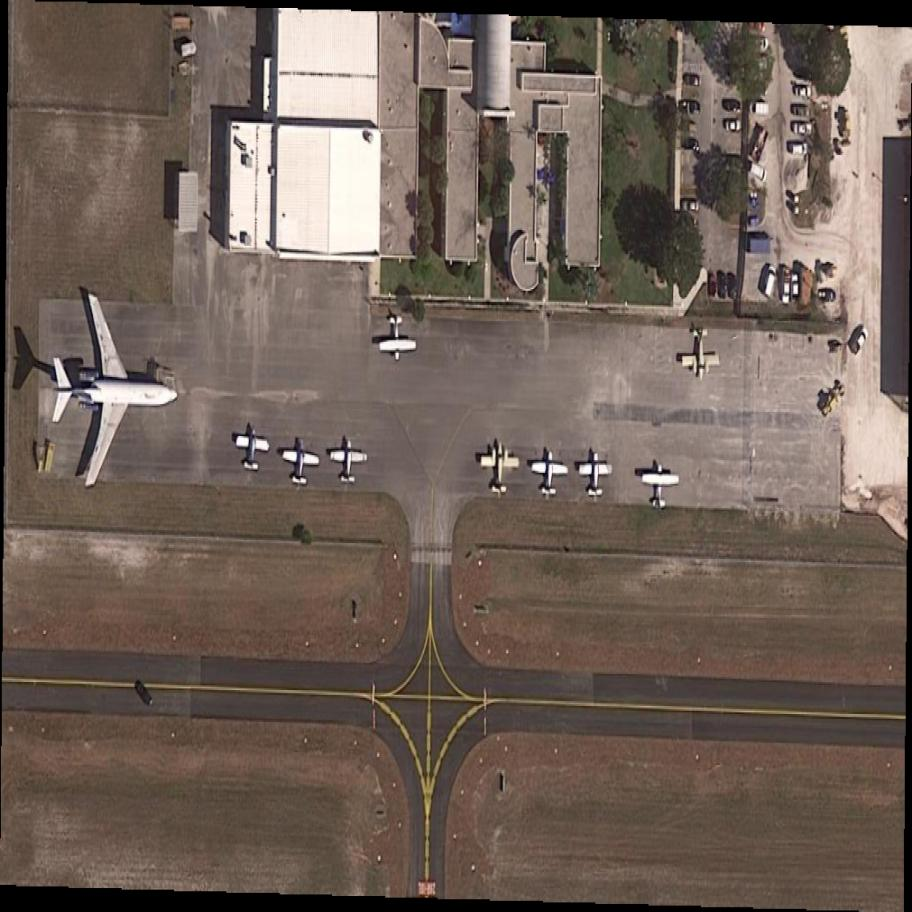plane: (51, 295, 186, 484), (478, 439, 521, 497), (280, 433, 323, 489), (681, 327, 719, 382), (329, 436, 370, 486), (378, 314, 416, 366), (529, 449, 570, 497), (640, 463, 680, 511), (233, 426, 271, 474), (577, 450, 613, 500)
small-vehicle: (846, 325, 872, 361), (133, 680, 157, 712), (761, 265, 779, 302), (746, 163, 773, 185), (676, 99, 702, 118), (679, 196, 703, 216), (678, 137, 704, 155), (720, 97, 742, 117), (749, 37, 772, 56), (790, 102, 812, 120), (782, 270, 792, 307), (792, 121, 814, 137), (750, 101, 770, 118), (817, 286, 836, 303), (727, 273, 738, 302), (794, 86, 814, 101), (723, 120, 743, 134), (684, 73, 702, 88), (791, 142, 809, 157), (718, 273, 727, 302), (791, 273, 799, 305), (708, 273, 717, 300)
